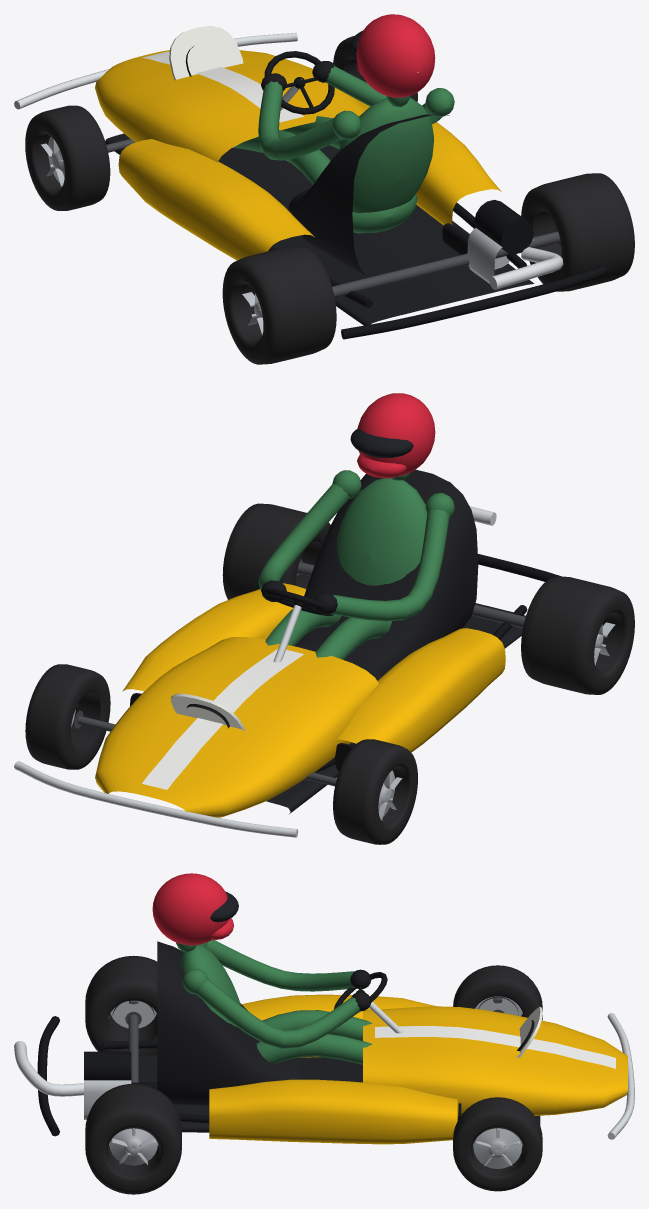
The model's file is go-kart-yellow.3d6ad979.glb.
3 views of the same model, one above another, from view 1: azimuth 30°, elevation 25°; view 2: azimuth 150°, elevation 25°; view 3: azimuth 270°, elevation 25° (orthographic). The views are drawn at different scales.
Parts seen in each view (by area): view 1: chassis, wheel_rl, wheel_rr, wheel_fl, steer_wheel, wheel_fr; view 2: chassis, wheel_rl, wheel_fl, wheel_fr, wheel_rr, steer_wheel; view 3: chassis, wheel_rr, wheel_fr, wheel_rl, wheel_fl.
Part boxes in pixels (x1,y1,x2,y2): chassis: [14, 14, 607, 339]; wheel_rl: [222, 246, 336, 364]; wheel_rr: [521, 173, 634, 291]; wheel_fl: [25, 105, 110, 210]; steer_wheel: [264, 51, 334, 114]; wheel_fr: [333, 36, 417, 101]; chassis: [14, 393, 561, 837]; wheel_rl: [521, 576, 634, 694]; wheel_fl: [333, 739, 417, 844]; wheel_fr: [25, 664, 110, 769]; wheel_rr: [222, 503, 330, 599]; steer_wheel: [264, 588, 333, 615]; chassis: [14, 873, 634, 1144]; wheel_rr: [85, 1083, 181, 1194]; wheel_fr: [453, 1097, 542, 1191]; wheel_rl: [85, 955, 157, 1054]; wheel_fl: [453, 965, 542, 1020].
Bounding box in the file's own units: 1.57 × 1.13 × 2.63.
